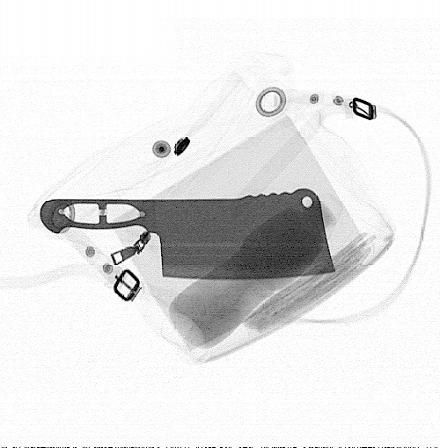Knife: (37, 186, 337, 282)
